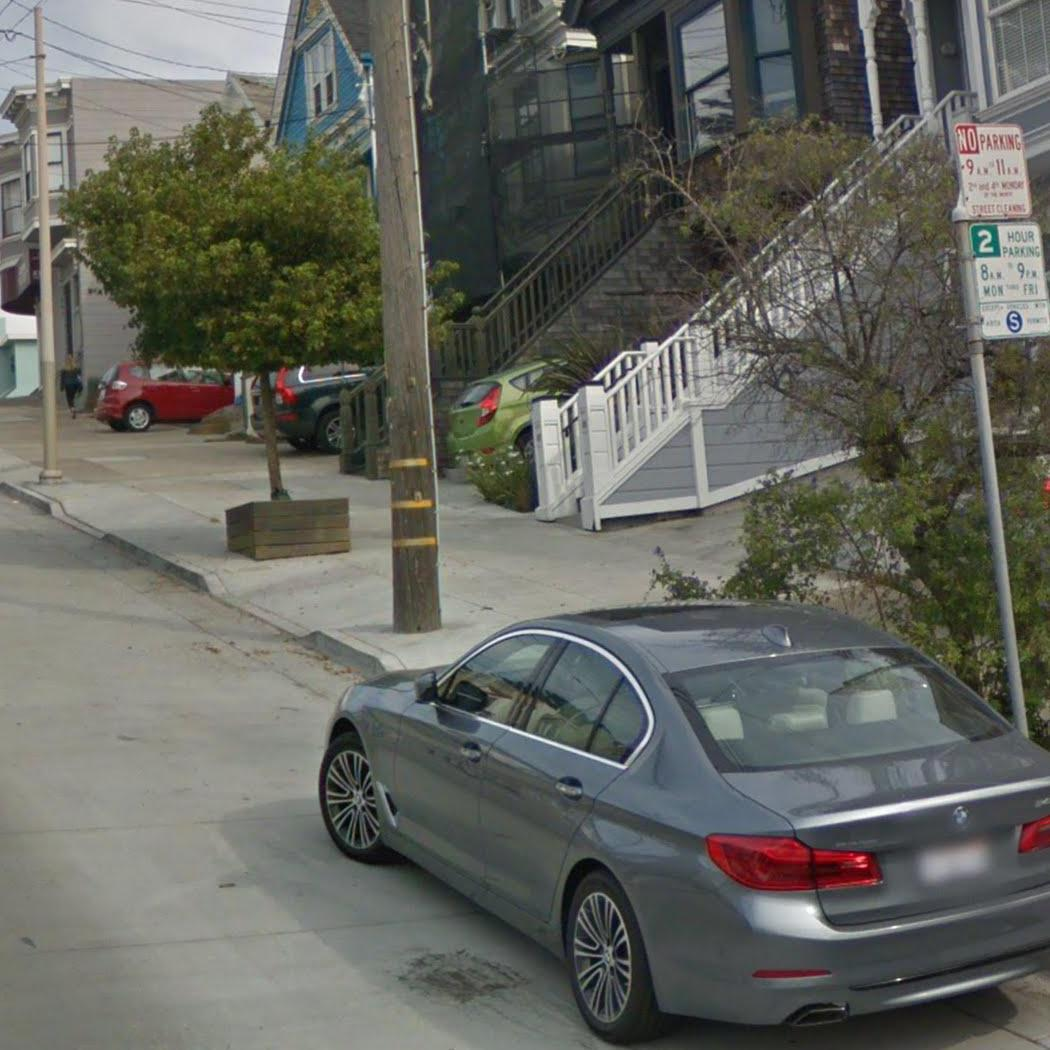2 Hour Parking: (959, 215, 1043, 336)
No Parking: (948, 123, 1035, 222)
